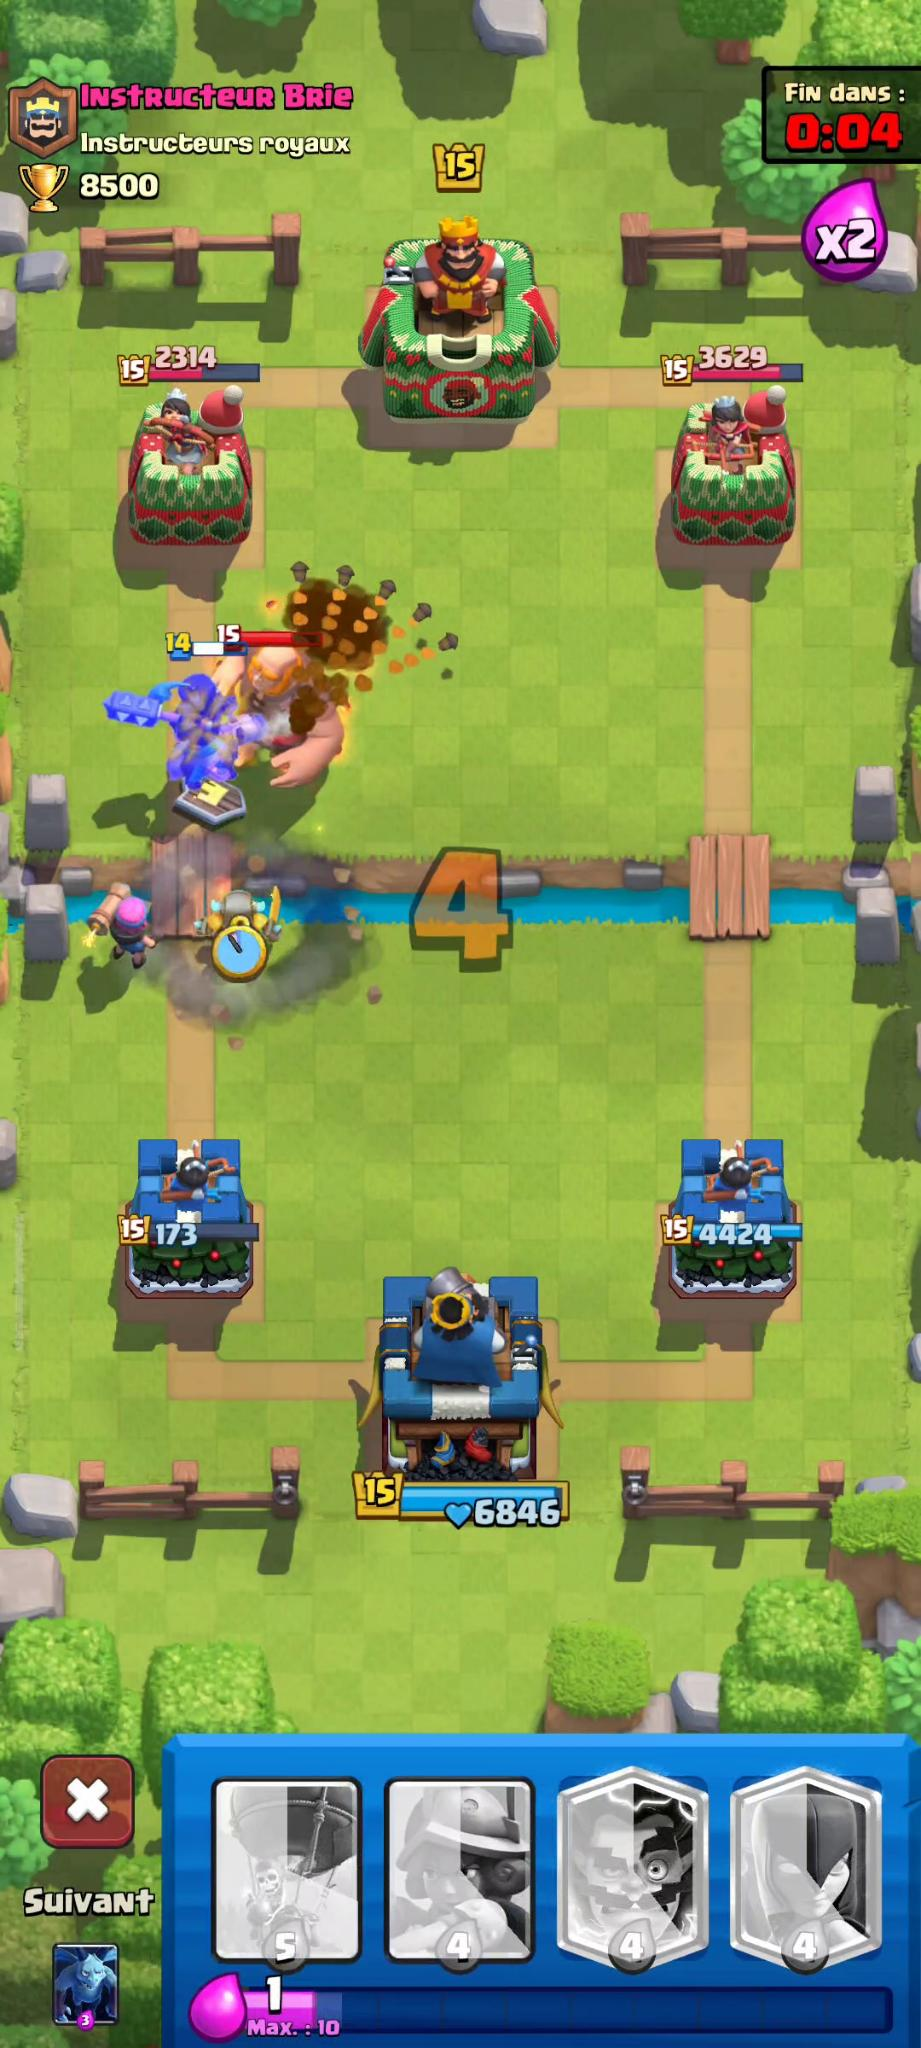geant: (213, 614, 349, 801)
mini_PEKKA: (204, 879, 294, 972)
